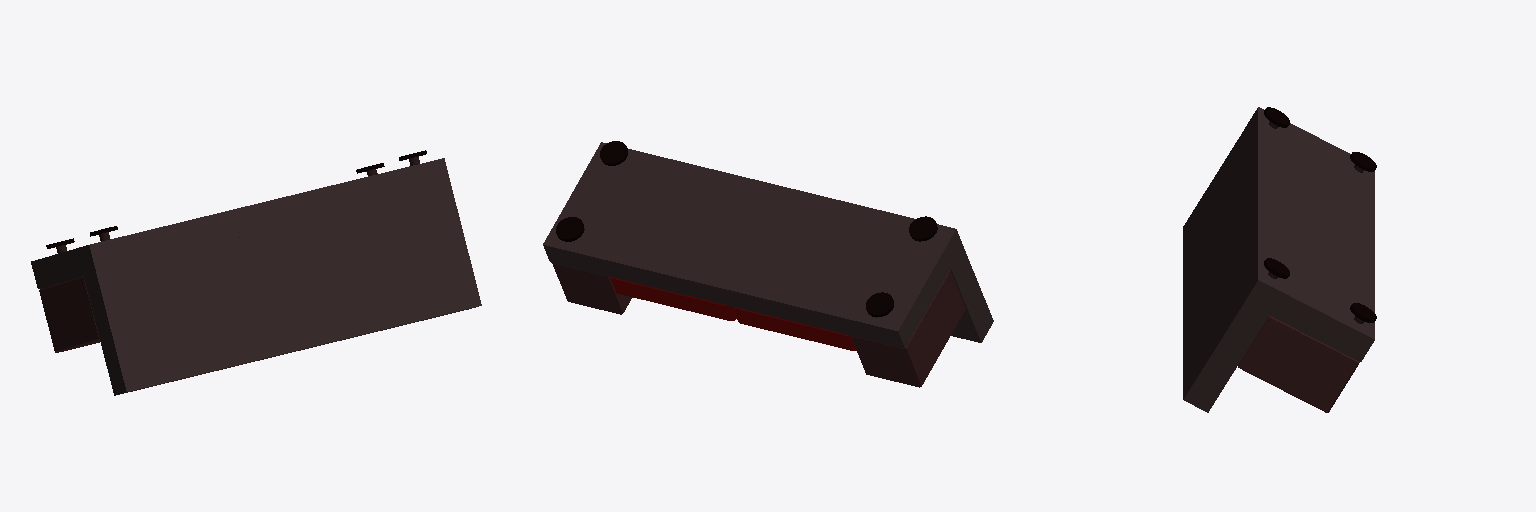
Rendered from tippedSofa.obj.
3 views of the same model, side by side, from view 1: azimuth 30°, elevation 25°; view 2: azimuth 150°, elevation 25°; view 3: azimuth 270°, elevation 25° (orthographic).
Visible parts, largest first — view 1: Box002, Box001, Box003; view 2: Box001, Box003, Box004, Box002, Box006, Box005, Cylinder008, Cylinder004, Cylinder001, Cylinder006; view 3: Box001, Box002, Box004.
Boxes of the visible parts, x1=… form: Box002: x1=84, y1=186, x2=481, y2=395; Box001: x1=31, y1=158, x2=450, y2=288; Box003: x1=39, y1=276, x2=99, y2=352; Box001: x1=543, y1=142, x2=962, y2=348; Box003: x1=851, y1=270, x2=965, y2=387; Box004: x1=552, y1=263, x2=632, y2=314; Box002: x1=950, y1=246, x2=993, y2=342; Box006: x1=610, y1=277, x2=736, y2=320; Box005: x1=732, y1=307, x2=856, y2=350; Cylinder008: x1=556, y1=217, x2=584, y2=241; Cylinder004: x1=909, y1=216, x2=937, y2=241; Cylinder001: x1=600, y1=141, x2=627, y2=165; Cylinder006: x1=866, y1=292, x2=893, y2=317; Box001: x1=1244, y1=107, x2=1374, y2=361; Box002: x1=1183, y1=131, x2=1268, y2=412; Box004: x1=1238, y1=316, x2=1359, y2=412.
Bounding box in the file's own units: 58.39 × 22.41 × 27.56.